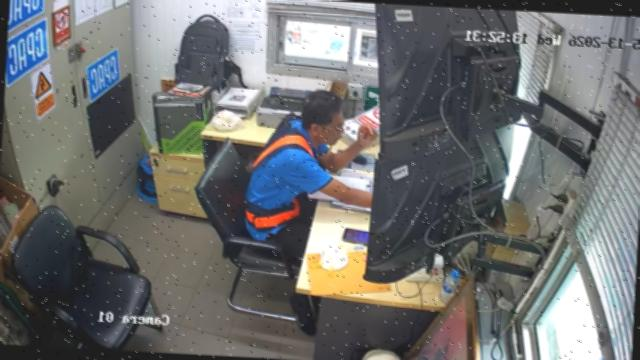Head: (300, 90, 345, 147)
People: (243, 90, 378, 261)
Phone: (342, 228, 369, 244)
